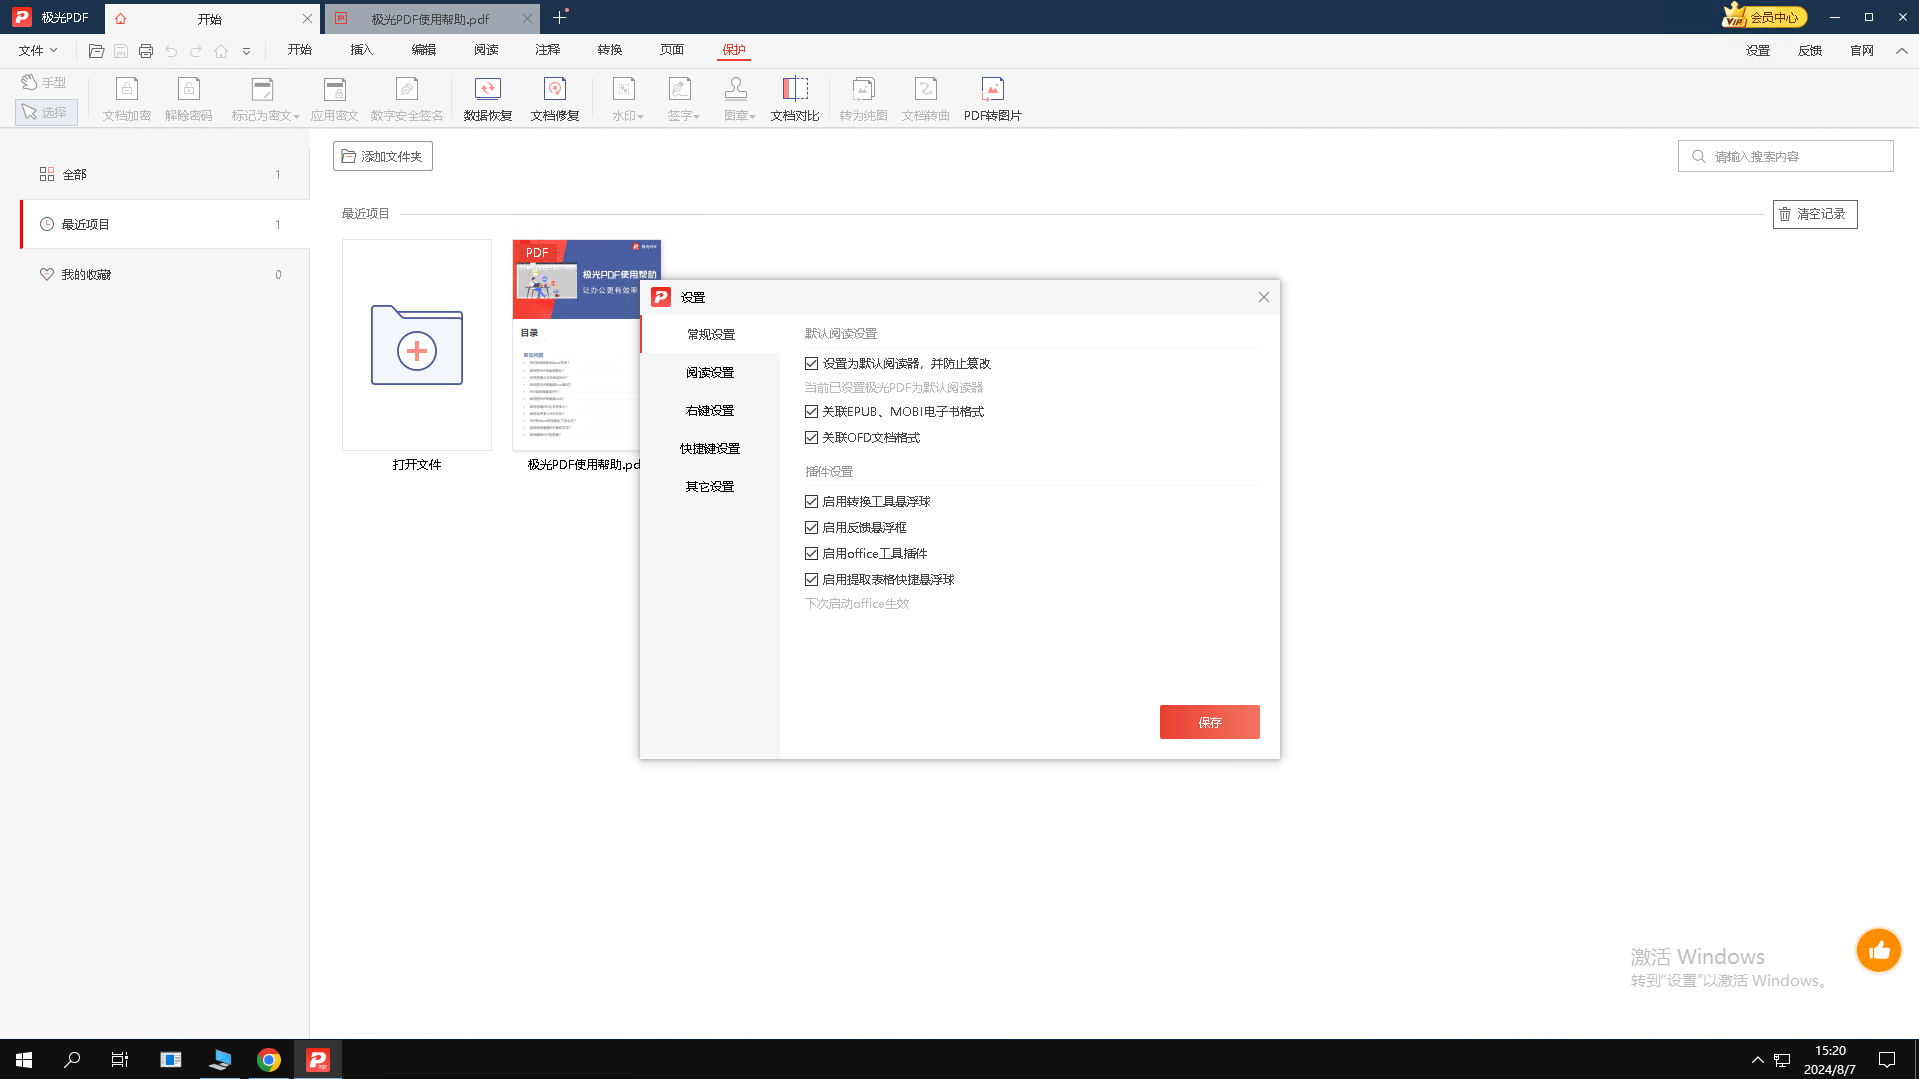Clickable: (637, 472, 780, 515), (641, 357, 786, 397), (641, 432, 784, 469), (641, 394, 780, 431), (639, 321, 782, 357), (1159, 701, 1263, 738), (1249, 285, 1278, 310)
Root: (641, 281, 1282, 759)
Selectable: (784, 348, 1003, 379), (786, 399, 1006, 429), (793, 487, 966, 519), (788, 429, 1010, 452), (789, 569, 971, 595), (789, 514, 965, 540), (789, 539, 961, 565)
level_0: (782, 320, 1286, 758), (637, 318, 780, 756), (641, 282, 1281, 321)
